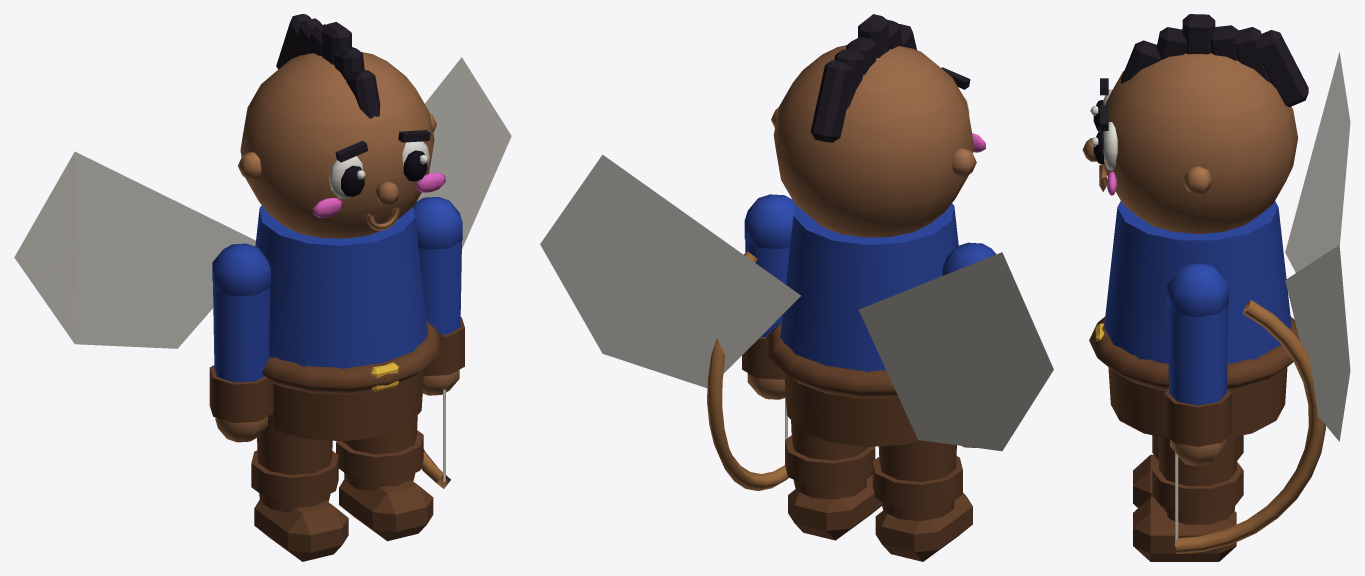
The model's file is hero_aquila.glb.
The picture shows the model from 3 angles, left to right: view 1: azimuth 30°, elevation 25°; view 2: azimuth 150°, elevation 25°; view 3: azimuth 270°, elevation 25°; orthographic projection. The views are drawn at different scales.
Parts seen in each view (by area): view 1: body_t0_palette, arml_t0_palette, legl_t0_palette, legr_t0_palette, armr_t0_palette; view 2: body_t0_palette, legl_t0_palette, armr_t0_palette, legr_t0_palette, arml_t0_palette; view 3: body_t0_palette, armr_t0_palette, legr_t0_palette, legl_t0_palette.
Part boxes in pixels (bbox=[...]): body_t0_palette: bbox=[14, 14, 511, 441]; arml_t0_palette: bbox=[209, 243, 273, 442]; legl_t0_palette: bbox=[251, 414, 348, 561]; legr_t0_palette: bbox=[336, 415, 433, 541]; armr_t0_palette: bbox=[413, 197, 464, 488]; body_t0_palette: bbox=[540, 14, 1053, 451]; legl_t0_palette: bbox=[872, 440, 972, 561]; armr_t0_palette: bbox=[707, 194, 795, 490]; legr_t0_palette: bbox=[785, 420, 881, 540]; arml_t0_palette: bbox=[942, 242, 996, 447]; body_t0_palette: bbox=[1082, 14, 1350, 441]; armr_t0_palette: bbox=[1164, 262, 1325, 553]; legr_t0_palette: bbox=[1133, 436, 1243, 561]; legl_t0_palette: bbox=[1133, 435, 1243, 507].
Size of the model in its own units: 0.54 by 0.5233 by 0.246.
